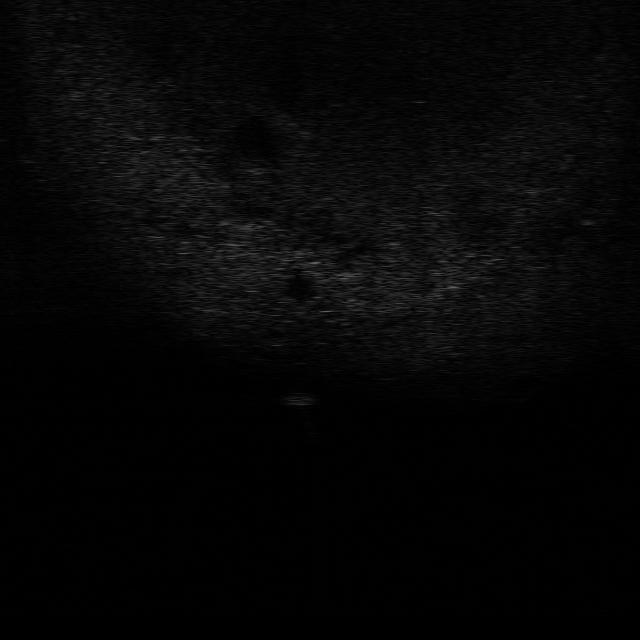cube: (284, 391, 316, 408)
